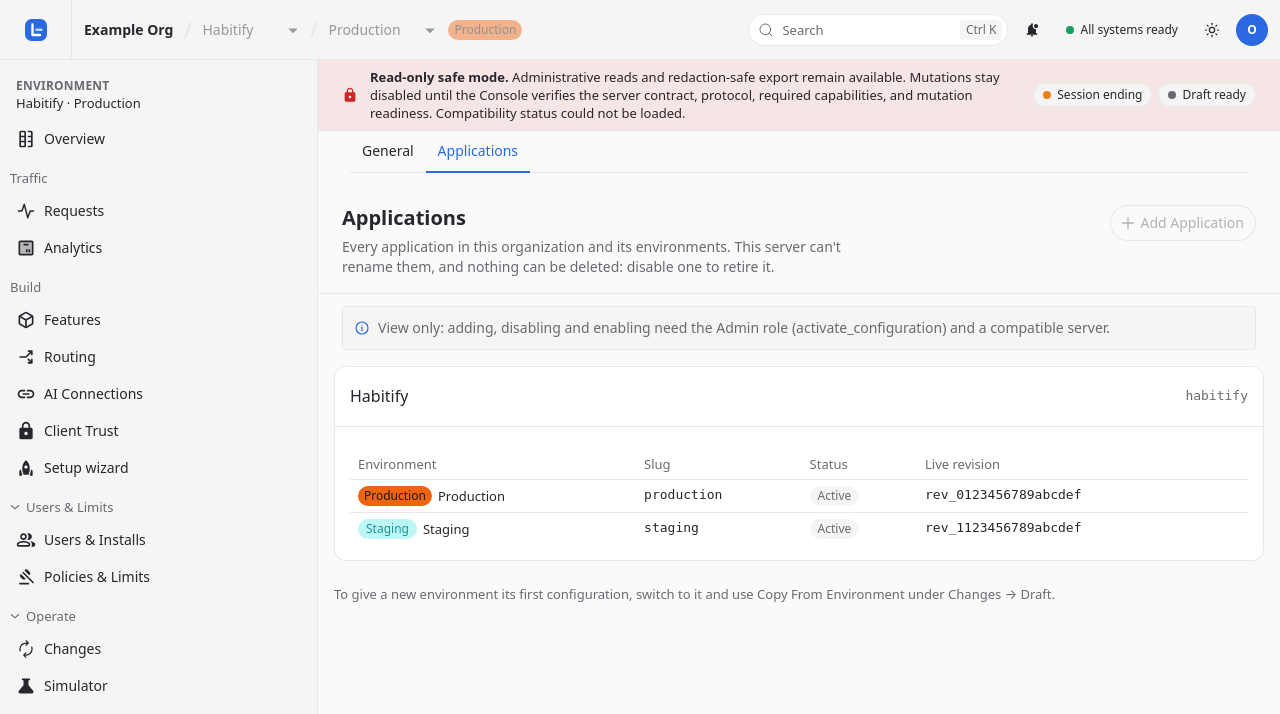
Test case: AppShell › resolves an explicit application environment and preserves it in task URLs
The image size is (1280, 714).
Expected: the dropdown named "Current application" shows "Habitify", [196,16,305,44]
Expected: the dropdown named "Current environment" shows "Production", [322,16,442,44]
Click the button "Draft ready": [1207, 95] box [1158,83,1256,107]
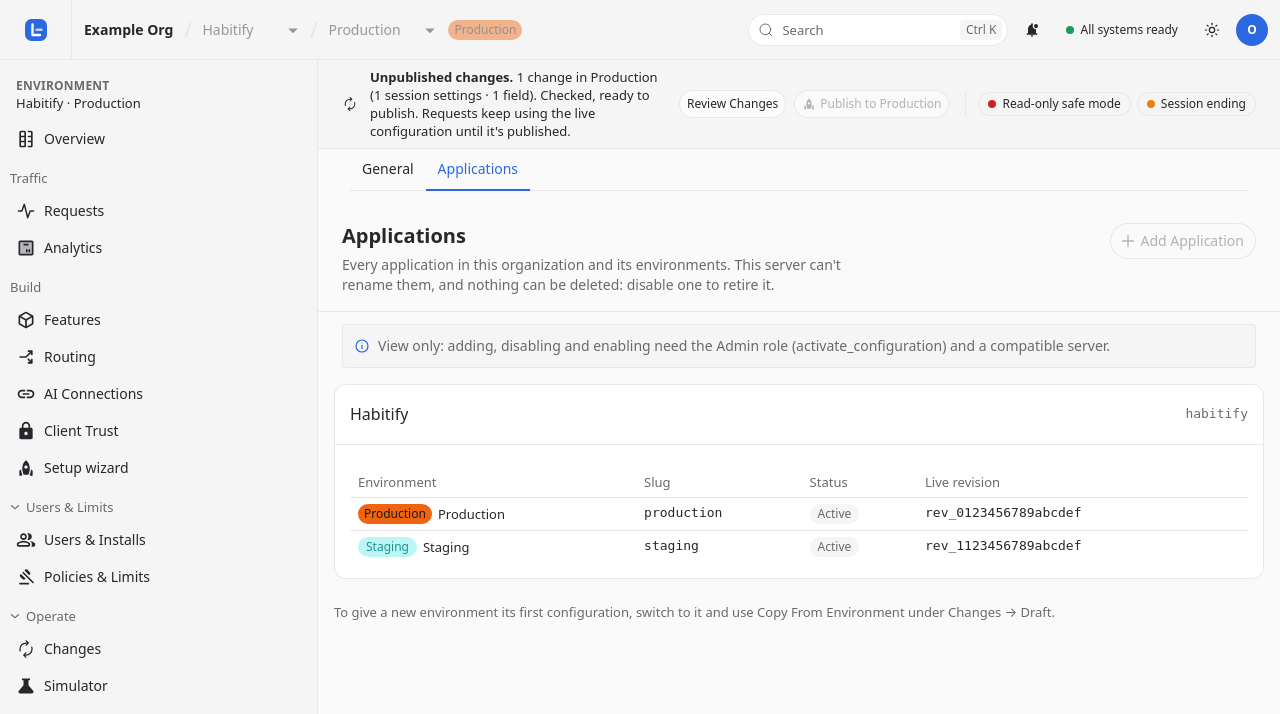
Expected: the text "Unpublished changes." is shown, [370,68,513,86]
Expected: the text "1 change in Production" is shown, [370,68,658,140]
Expected: the button "Publish to Production" is shown, [794,90,950,118]
Select "Staging" in the dropdown named "Current environment": [382, 30] box [322,16,442,44]
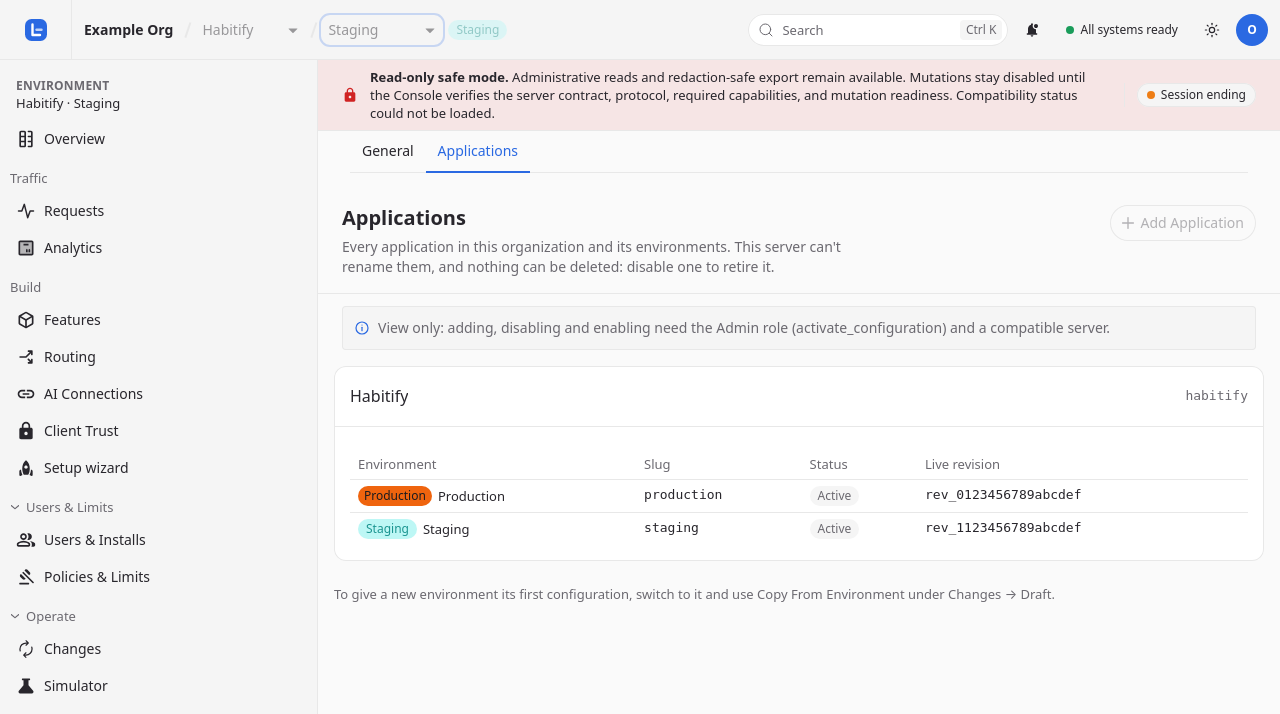
Expected: the text "Staging" in the row of "Example Org" is shown, [456,20,499,38]
